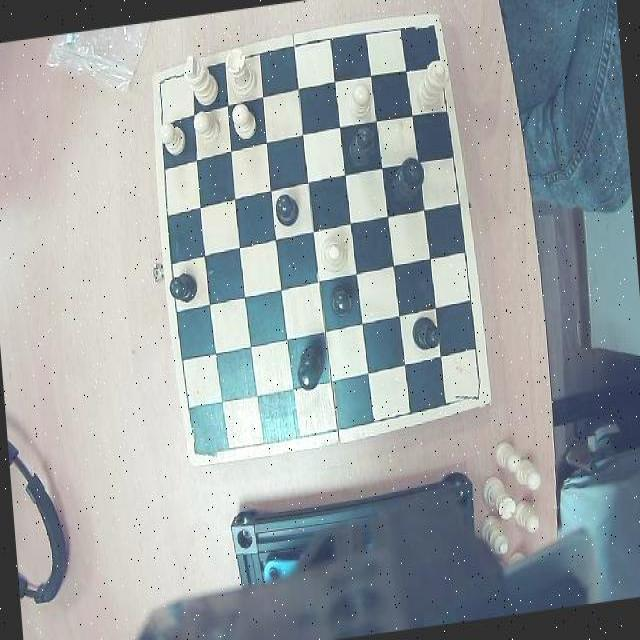chess-table-corners: (455, 372, 490, 408), (187, 430, 220, 464), (414, 17, 444, 47), (153, 70, 178, 98)
